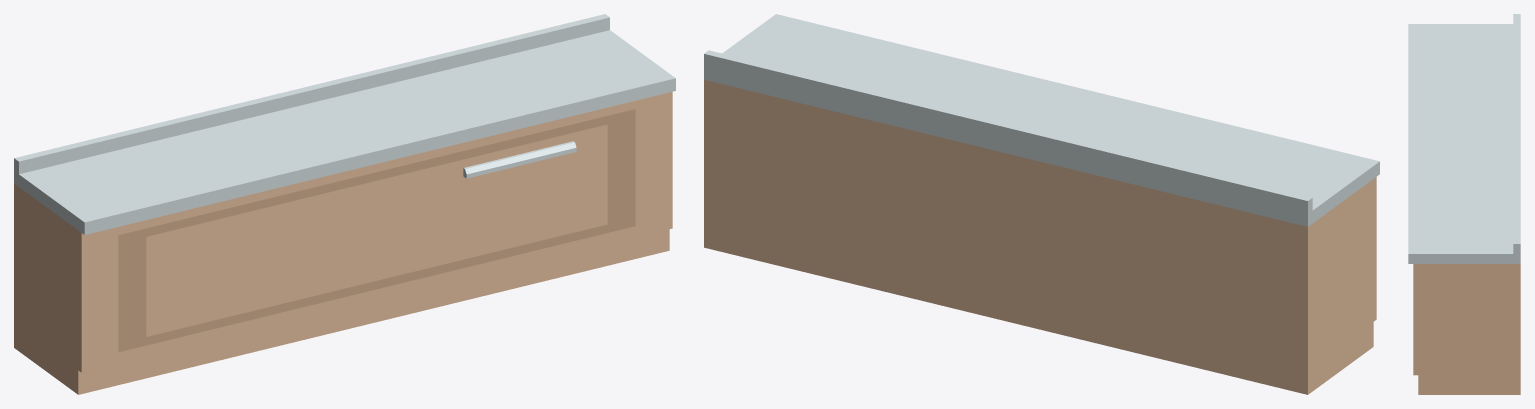
The model's file is kk-kitchenCabinet.glb.
3 renders of one model, left to right at view 1: azimuth 30°, elevation 25°; view 2: azimuth 150°, elevation 25°; view 3: azimuth 270°, elevation 25°, orthographic. The views are drawn at different scales.
Parts seen in each view (by area): view 1: kitchenCabinet(Clone), door; view 2: kitchenCabinet(Clone); view 3: kitchenCabinet(Clone).
Boxes of the visible parts, <box> form: kitchenCabinet(Clone): <box>14,14,675,394</box>; door: <box>118,109,635,352</box>; kitchenCabinet(Clone): <box>704,14,1379,394</box>; kitchenCabinet(Clone): <box>1408,14,1520,394</box>.
Size of the model in its own units: 1 by 0.3067 by 0.2067.
